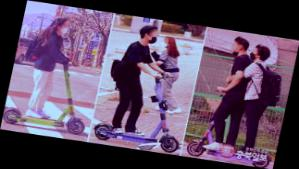multiple: (185, 31, 296, 169)
nonhelmet: (92, 21, 203, 153), (3, 11, 108, 135)
